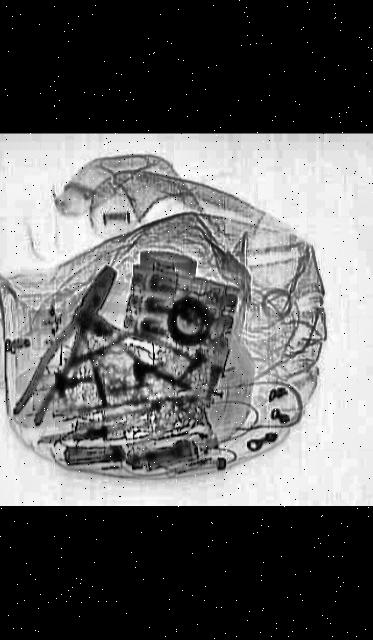Pliers: (7, 262, 130, 424), (72, 305, 217, 392)
